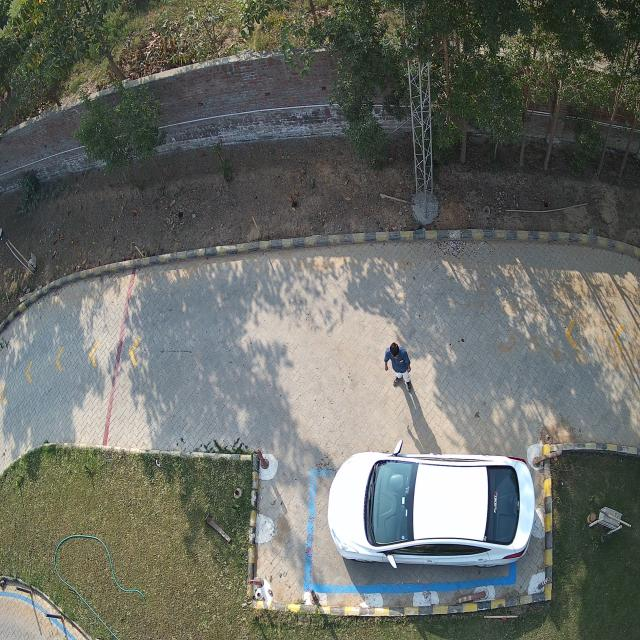car: (327, 450, 536, 572)
